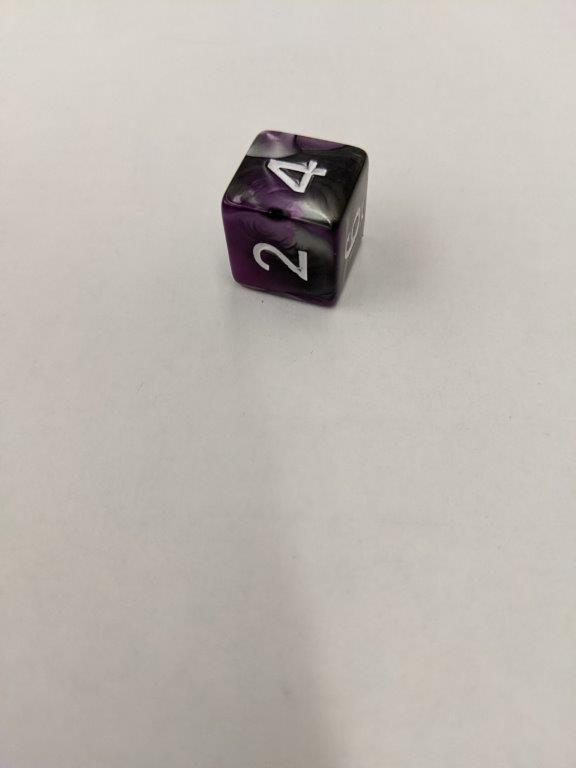d6-4: (224, 128, 370, 308)
